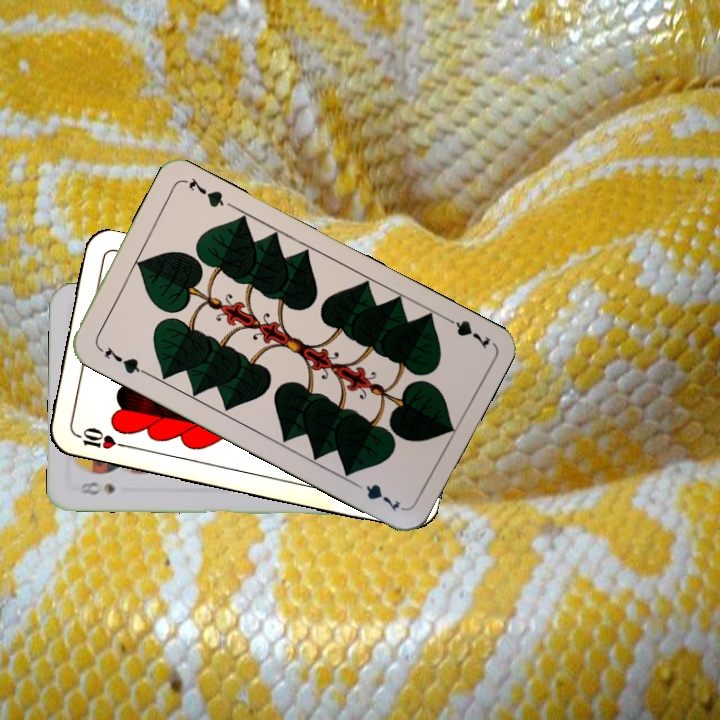G7: (438, 311, 493, 351), (94, 342, 148, 377)
H10: (70, 423, 129, 452)
S8: (76, 477, 118, 498)
